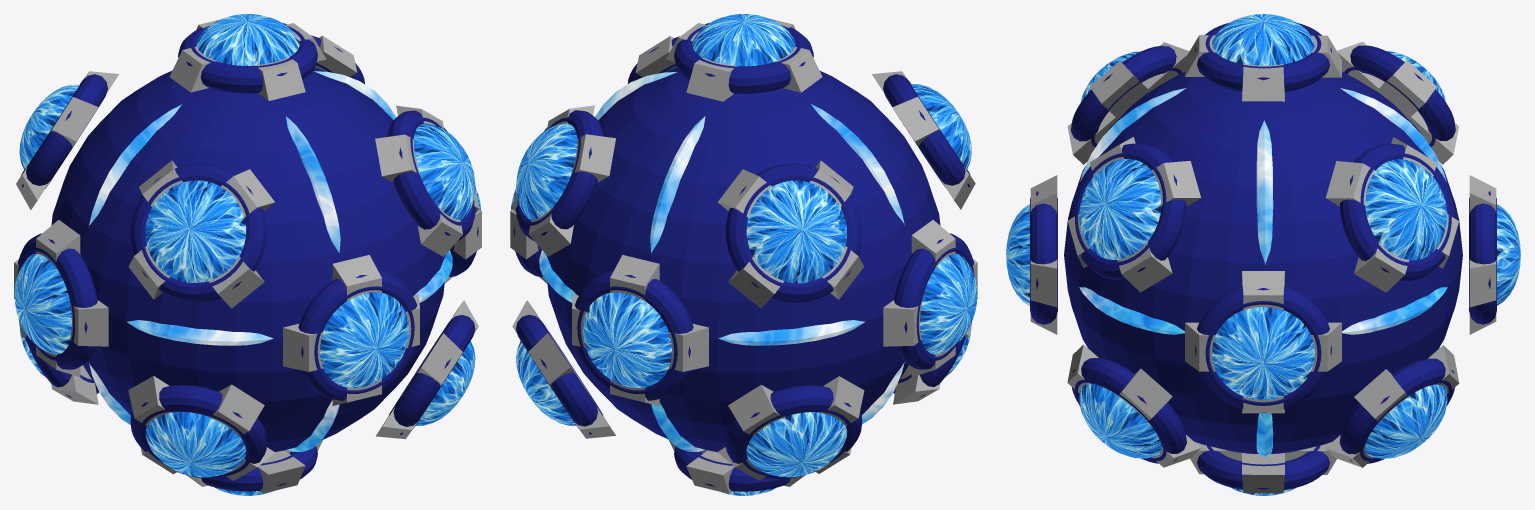
The model's file is bombblue.glb.
The picture shows the model from 3 angles, left to right: view 1: azimuth 30°, elevation 25°; view 2: azimuth 150°, elevation 25°; view 3: azimuth 270°, elevation 25°; orthographic projection.
Parts seen in each view (by area): view 1: Sphere.001, Sphere.008, Sphere.003, Sphere.009, Torus.007, Sphere.005, Torus.002, Sphere.004, Sphere.012, Torus.008, Torus.004, Torus.003 (+33 smaller); view 2: Sphere.001, Sphere.014, Sphere.002, Sphere.011, Torus.013, Sphere.005, Sphere.004, Torus.001, Sphere.010, Torus.010, Torus.004, Torus.003 (+33 smaller); view 3: Sphere.001, Sphere.006, Sphere.010, Sphere.012, Torus.005, Sphere.004, Torus.011, Torus.009, Sphere.013, Sphere.007, Torus.003, Torus.012 (+36 smaller).
Boxes of the visible parts, box(x1,y1,x2,y2) form: Sphere.001: box(51, 67, 445, 451); Sphere.008: box(145, 180, 246, 282); Sphere.003: box(320, 292, 408, 388); Sphere.009: box(145, 411, 246, 477); Torus.007: box(130, 163, 266, 302); Sphere.005: box(14, 253, 71, 354); Torus.002: box(298, 270, 420, 400); Sphere.004: box(196, 14, 299, 65); Sphere.012: box(413, 123, 475, 219); Torus.008: box(130, 385, 266, 478); Torus.004: box(17, 233, 97, 369); Torus.003: box(178, 23, 317, 93); Sphere.001: box(546, 67, 940, 452); Sphere.014: box(746, 180, 847, 283); Sphere.002: box(583, 292, 671, 387); Sphere.011: box(746, 412, 847, 477); Torus.013: box(726, 163, 861, 302); Sphere.005: box(920, 253, 977, 354); Sphere.004: box(692, 14, 795, 66); Torus.001: box(574, 270, 693, 400); Sphere.010: box(516, 123, 577, 219); Torus.010: box(725, 385, 861, 478); Torus.004: box(894, 233, 974, 369); Torus.003: box(674, 23, 813, 93); Sphere.001: box(1064, 71, 1462, 453); Sphere.006: box(1212, 306, 1314, 399); Sphere.010: box(1365, 159, 1447, 260); Sphere.012: box(1079, 159, 1161, 259); Torus.005: box(1195, 286, 1331, 412); Sphere.004: box(1212, 14, 1314, 65); Torus.011: box(1071, 143, 1186, 280); Torus.009: box(1340, 143, 1455, 280); Sphere.013: box(1079, 383, 1161, 458); Sphere.007: box(1365, 384, 1447, 458); Torus.003: box(1195, 22, 1331, 91); Torus.012: box(1072, 358, 1186, 463).
Bounding box in the file's own units: 9.11 × 9.11 × 9.11.
4 materials, 2 textured.
